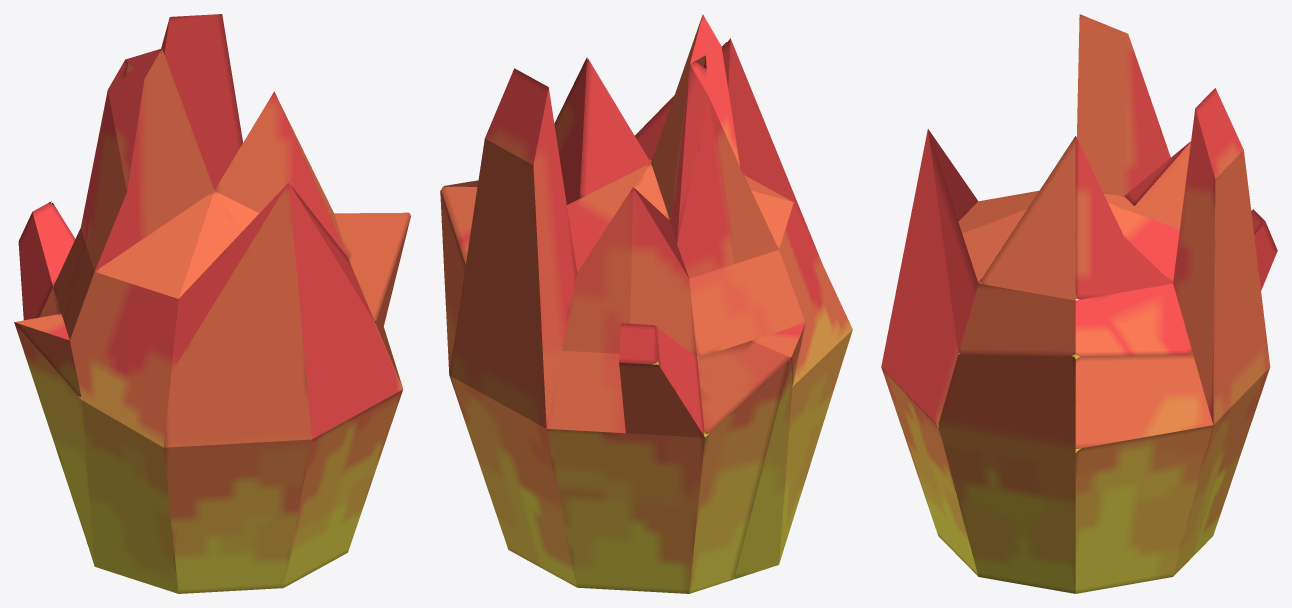
Rendered from Fire Model.fbx.
3 views of the same model, side by side, from view 1: azimuth 30°, elevation 25°; view 2: azimuth 150°, elevation 25°; view 3: azimuth 270°, elevation 25° (orthographic). The views are drawn at different scales.
Parts seen in each view (by area): view 1: sphere; view 2: sphere; view 3: sphere.
Boxes of the visible parts, left/top/right/bottom form: sphere: left=14, top=14, right=410, bottom=593; sphere: left=440, top=14, right=852, bottom=593; sphere: left=881, top=14, right=1277, bottom=593.
Bounding box in the file's own units: 107 × 156 × 102.
1 material, 1 textured.
